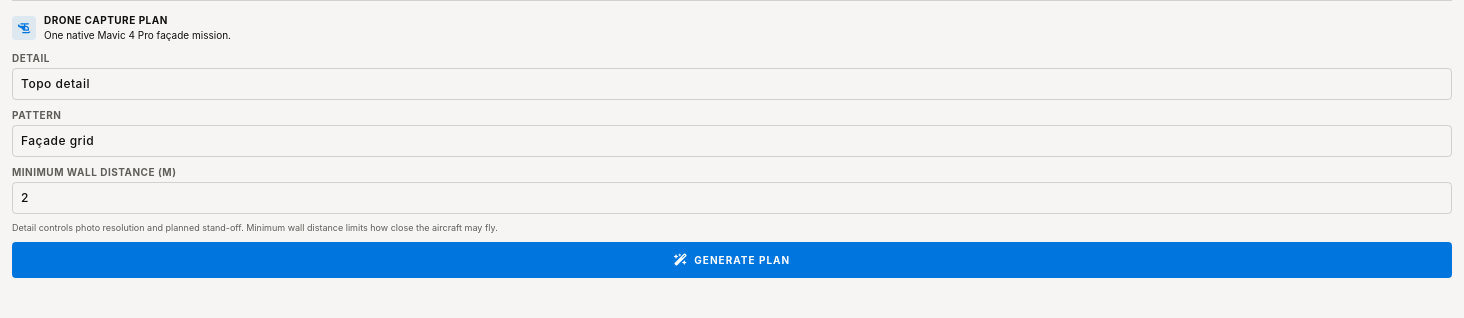
cancels pending calculations and ignores their late results
The width and height of the screenshot is (1464, 318).
Click the button "Generate plan" at (732, 260), box [12,242,1452,278]
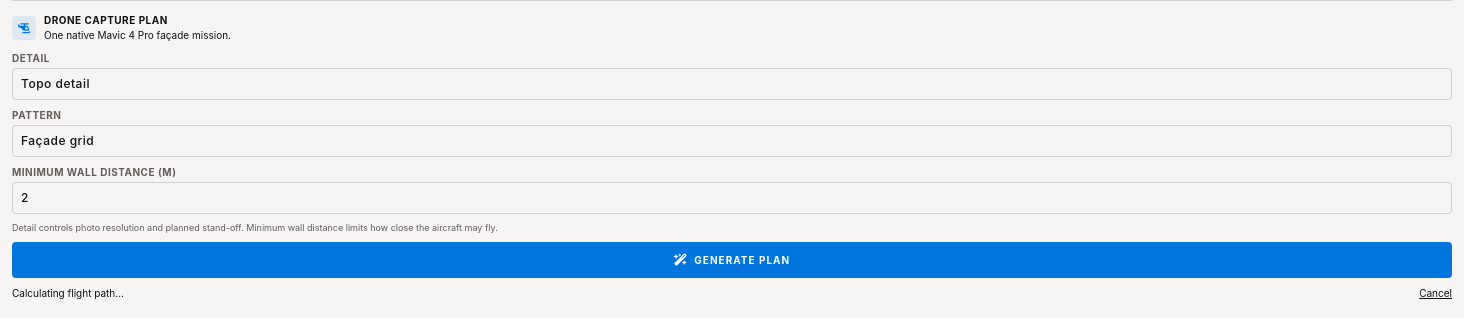
Now the message reads "Calculating flight path…", box [12,287,124,299]
Click the button "Cancel" at (1436, 294), box [1419,286,1452,301]
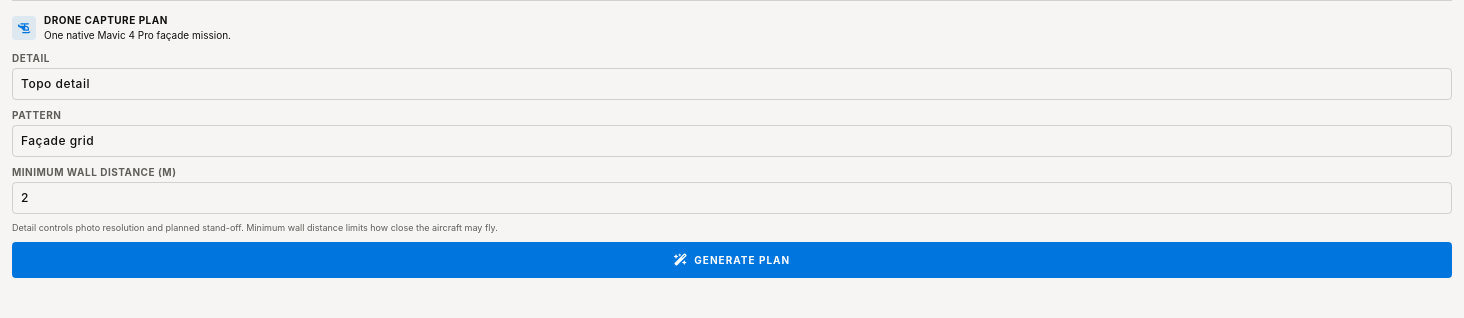
Now the message "Calculating flight path…" is gone
